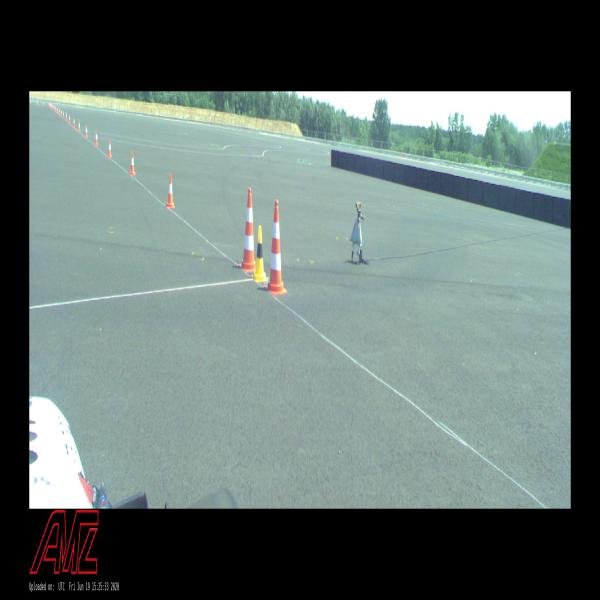large_orange_cone: (264, 202, 287, 294), (238, 189, 256, 271)
orange_cone: (167, 173, 175, 207), (130, 151, 136, 175), (107, 139, 112, 157), (95, 130, 98, 146), (85, 124, 88, 138), (78, 120, 81, 131), (73, 118, 75, 128), (66, 112, 67, 121), (69, 115, 70, 123), (63, 111, 64, 118), (57, 106, 58, 113), (61, 110, 62, 116), (59, 108, 60, 114), (55, 106, 56, 111), (54, 105, 55, 110)
yellow_cone: (252, 226, 267, 281)
